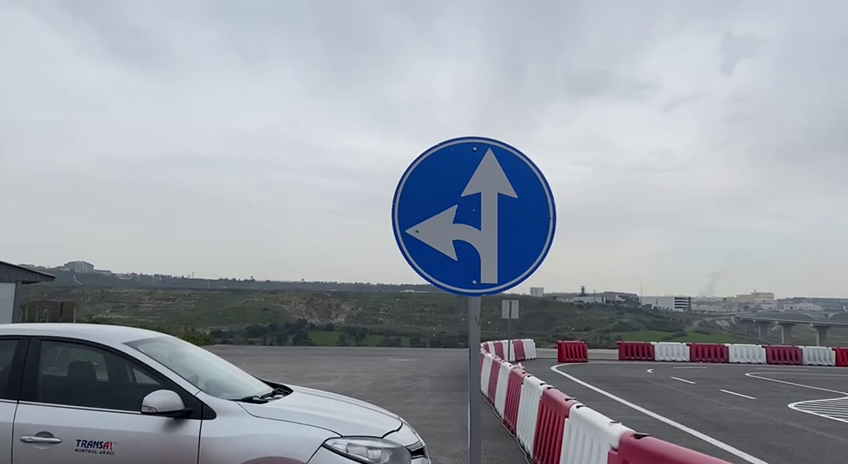forwardAndLeft: (384, 129, 563, 302)
